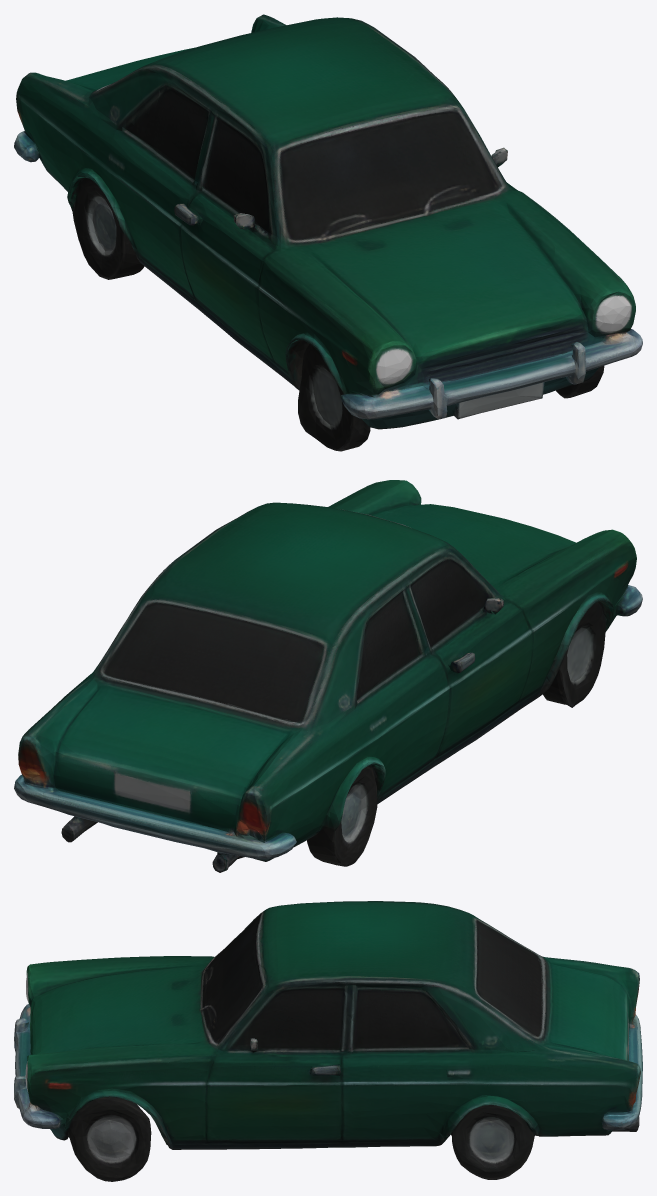
File: object-2-teal-car.glb
The picture shows the model from 3 angles, top to bottom: view 1: azimuth 30°, elevation 25°; view 2: azimuth 150°, elevation 25°; view 3: azimuth 270°, elevation 25°; orthographic projection. The views are drawn at different scales.
Parts seen in each view (by area): view 1: geometry_0; view 2: geometry_0; view 3: geometry_0.
Boxes of the visible parts, x1,y1,x2,y2 form: geometry_0: (14,14,642,451); geometry_0: (14,480,642,872); geometry_0: (14,901,642,1181).
Bounding box in the file's own units: 0.4505 × 0.3469 × 0.9976.
Materials: 1 (1 with a texture image).
